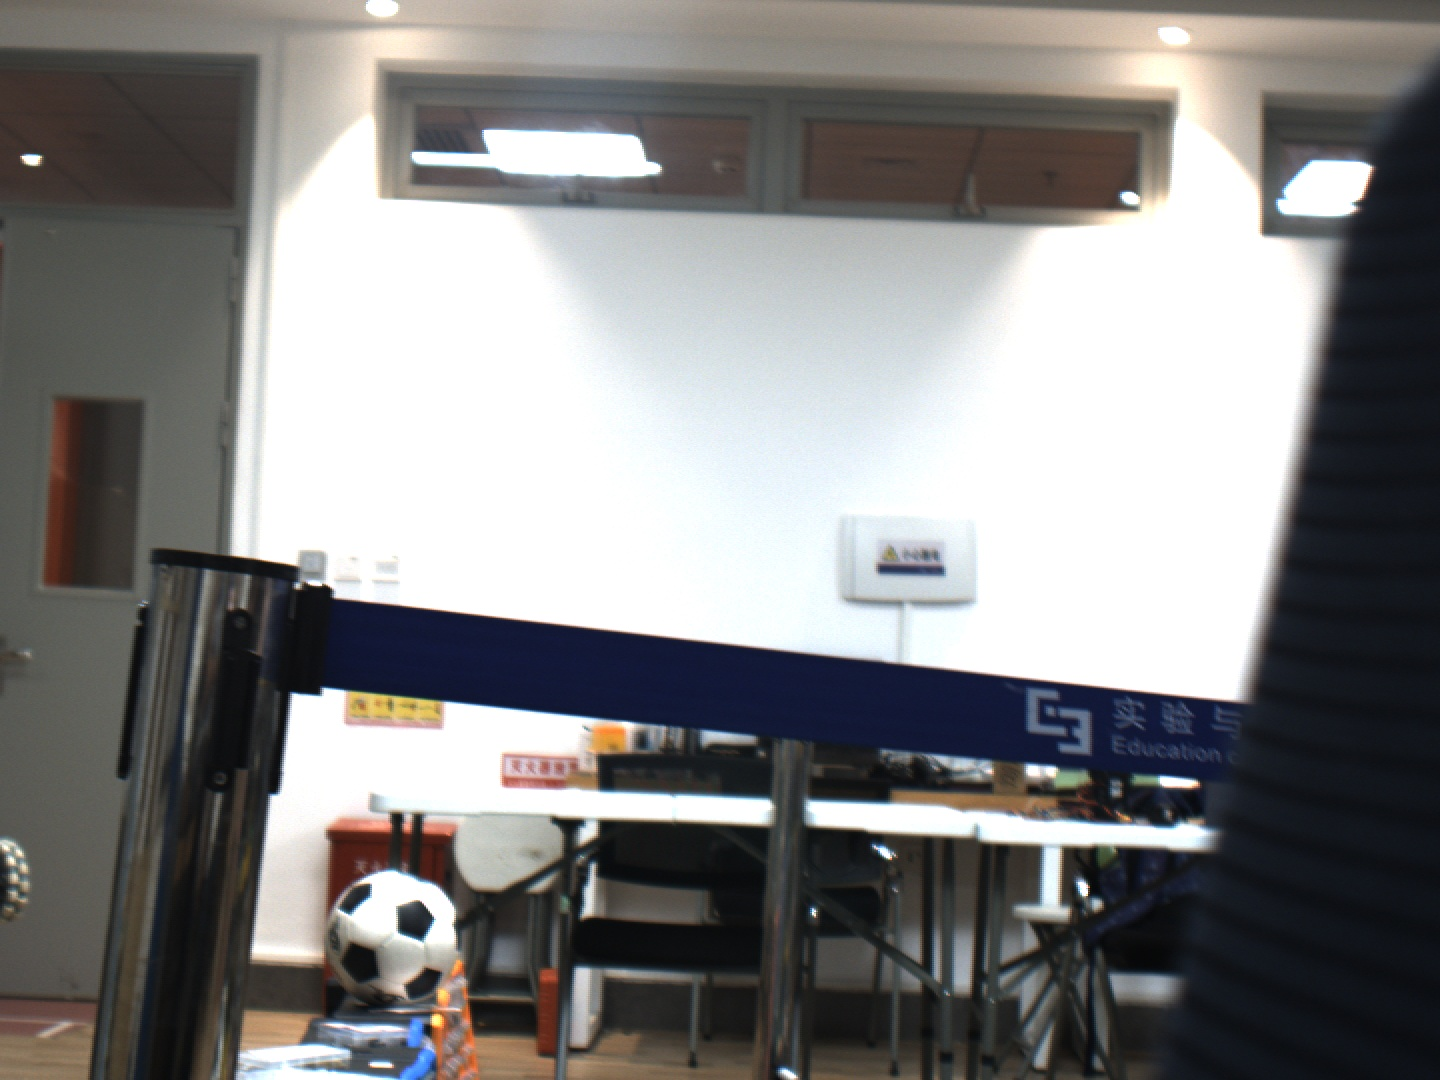ball: (310, 855, 471, 1018)
